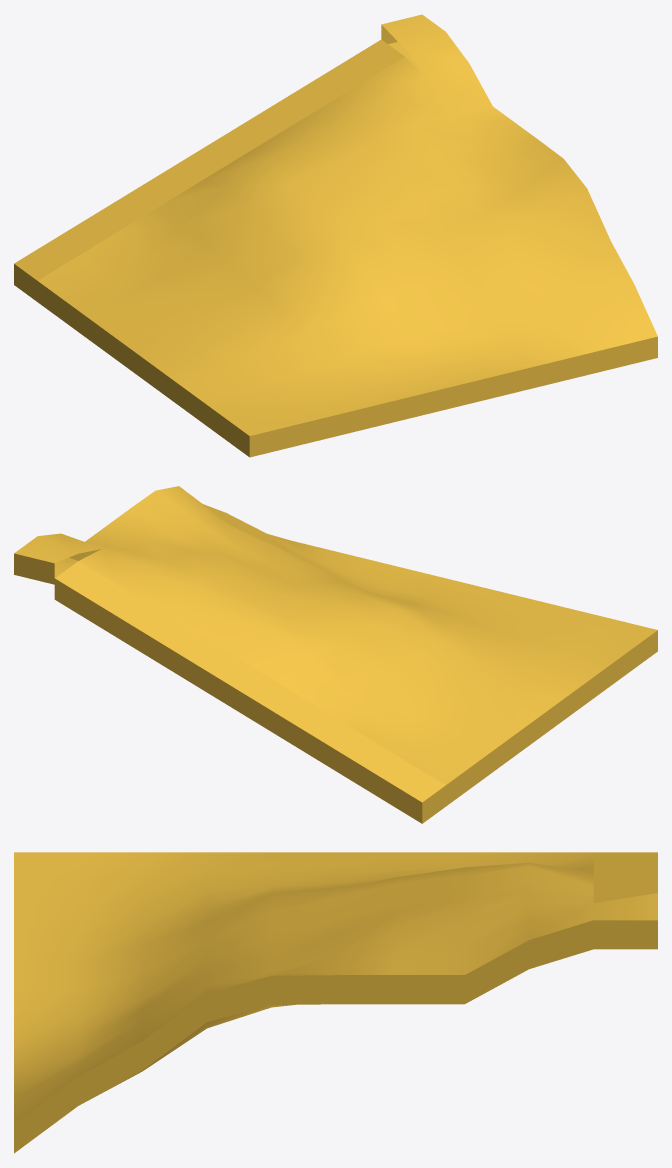
The model's file is Flach - Mitte - Ecke x - b.fbx.
The picture shows the model from 3 angles, top to bottom: view 1: azimuth 30°, elevation 25°; view 2: azimuth 150°, elevation 25°; view 3: azimuth 270°, elevation 25°; orthographic projection. The views are drawn at different scales.
Parts seen in each view (by area): view 1: Flach - Mitte - Ecke x - b; view 2: Flach - Mitte - Ecke x - b; view 3: Flach - Mitte - Ecke x - b.
Part boxes in pixels (x1,y1,x2,y2): Flach - Mitte - Ecke x - b: (14,14,657,457); Flach - Mitte - Ecke x - b: (14,486,657,823); Flach - Mitte - Ecke x - b: (14,852,657,1153).
Bounding box in the file's own units: 394 × 157 × 394.
